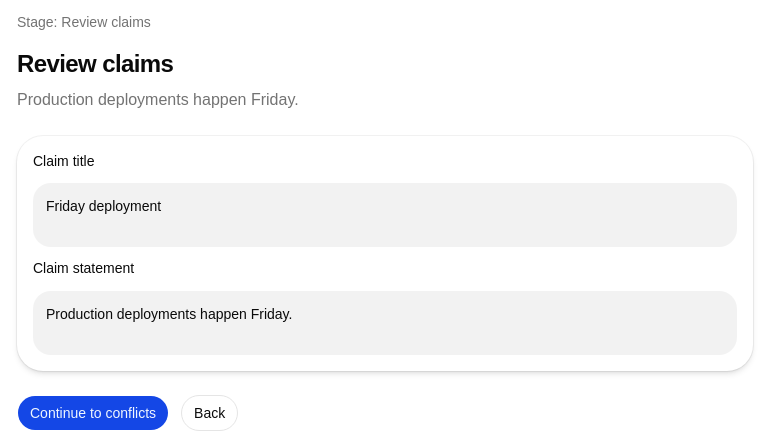
Test: contribution review › refreshes the contribution after a stale revision response
What coordinates should you click on to do the following:
click the button "Continue to conflicts"
I would click on:
 (93, 412)
Its box is 17,394 -> 169,430.
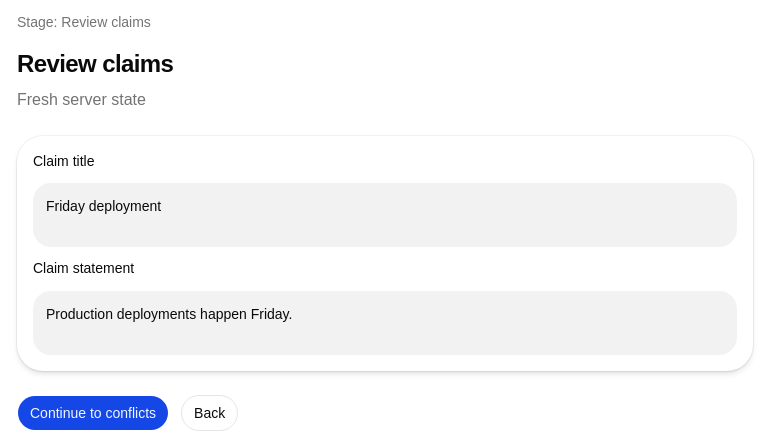
Check: the text "Fresh server state" is shown, box 17,91 -> 146,108
